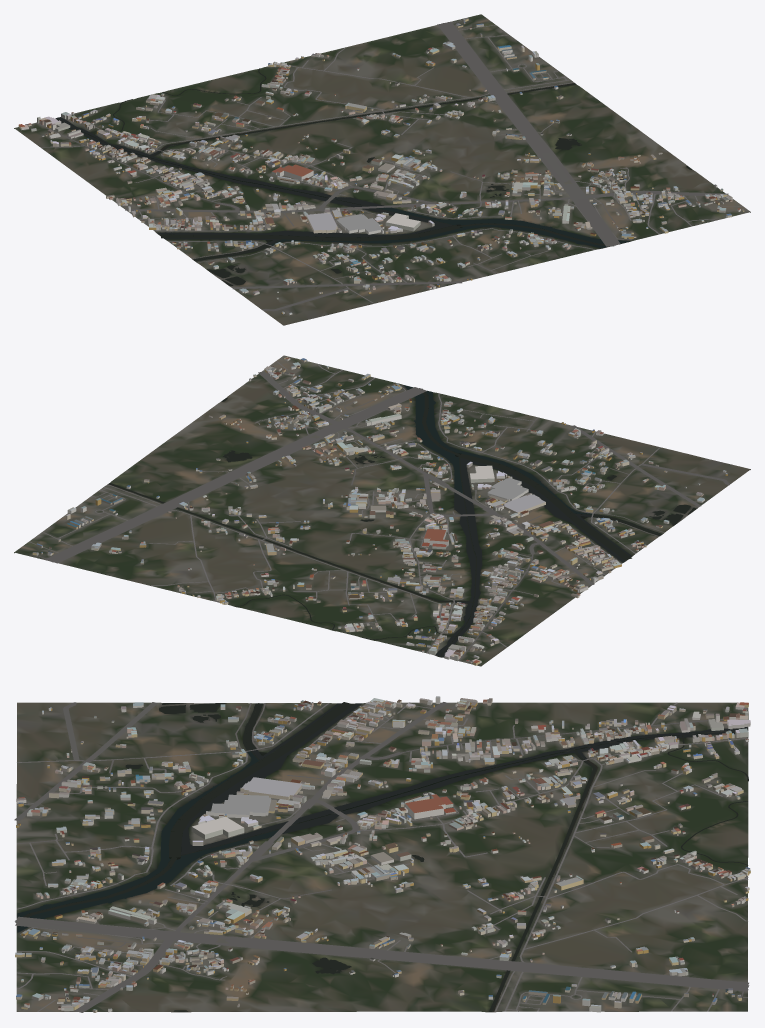
The picture shows the model from 3 angles, top to bottom: view 1: azimuth 30°, elevation 25°; view 2: azimuth 150°, elevation 25°; view 3: azimuth 270°, elevation 25°; orthographic projection. The views are drawn at different scales.
Parts seen in each view (by area): view 1: ground, buildings, roads, water; view 2: ground, buildings, roads, water; view 3: ground, buildings, roads, water.
Part boxes in pixels (box(x1,y1,x2,y2)): ground: box(14, 14, 750, 325); buildings: box(18, 18, 744, 314); roads: box(36, 19, 743, 311); water: box(55, 68, 692, 285); ground: box(14, 355, 750, 666); buildings: box(32, 356, 727, 665); roads: box(29, 361, 730, 660); water: box(108, 385, 695, 657); ground: box(16, 702, 748, 1012); buildings: box(15, 696, 750, 1012); roads: box(14, 702, 749, 1012); water: box(15, 702, 748, 1011).
Size of the model in its own units: 1414 by 19.57 by 1411.
